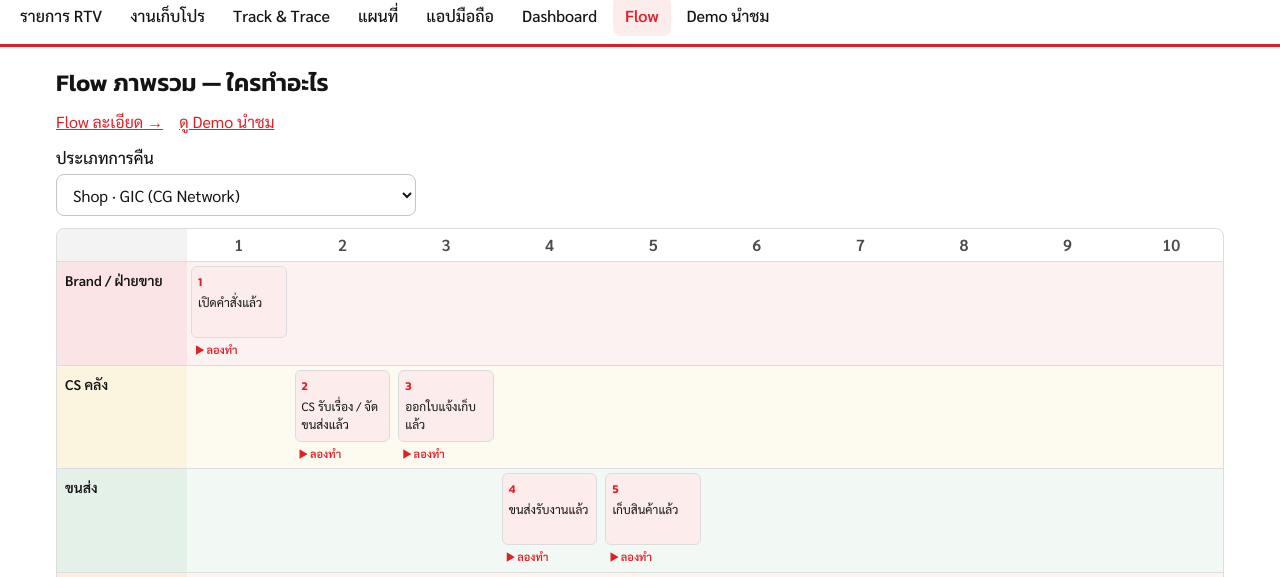
Test case: overview draws 10 steps and fades the skipped ones for 4W Plaza
Select "Shop · งานสาย (Route) – 4W Plaza" in the dropdown labelled "ประเภทการคืน": (236, 195) [56,174,416,216]
(page scrolled)
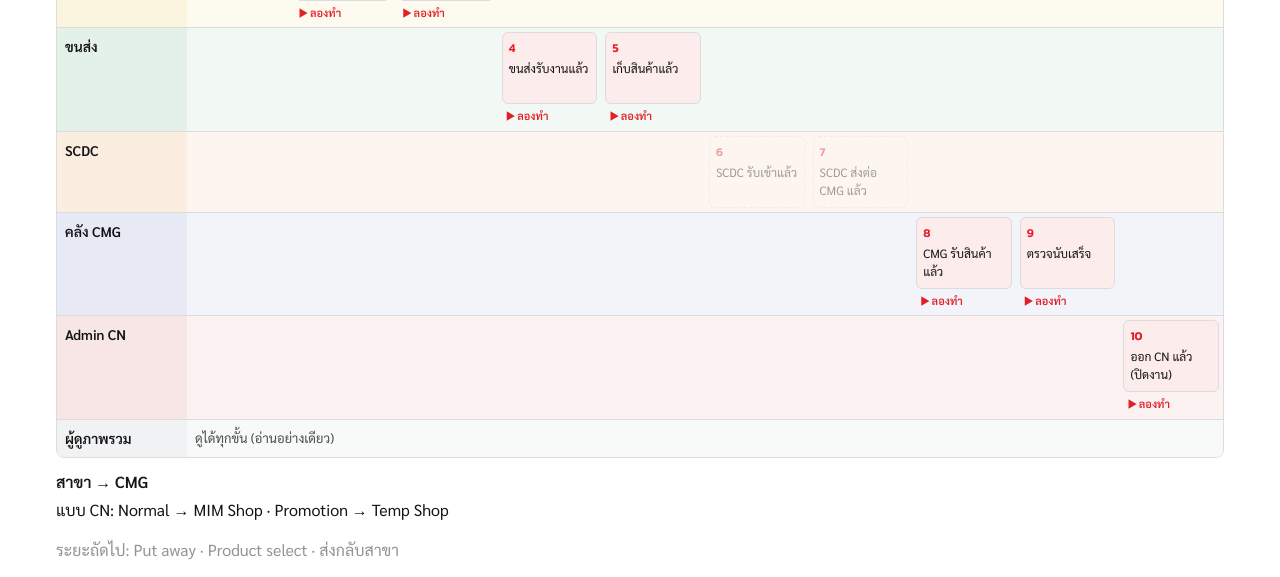
Result: the text "สาขา → CMG" is shown at [56,471,148,492]
